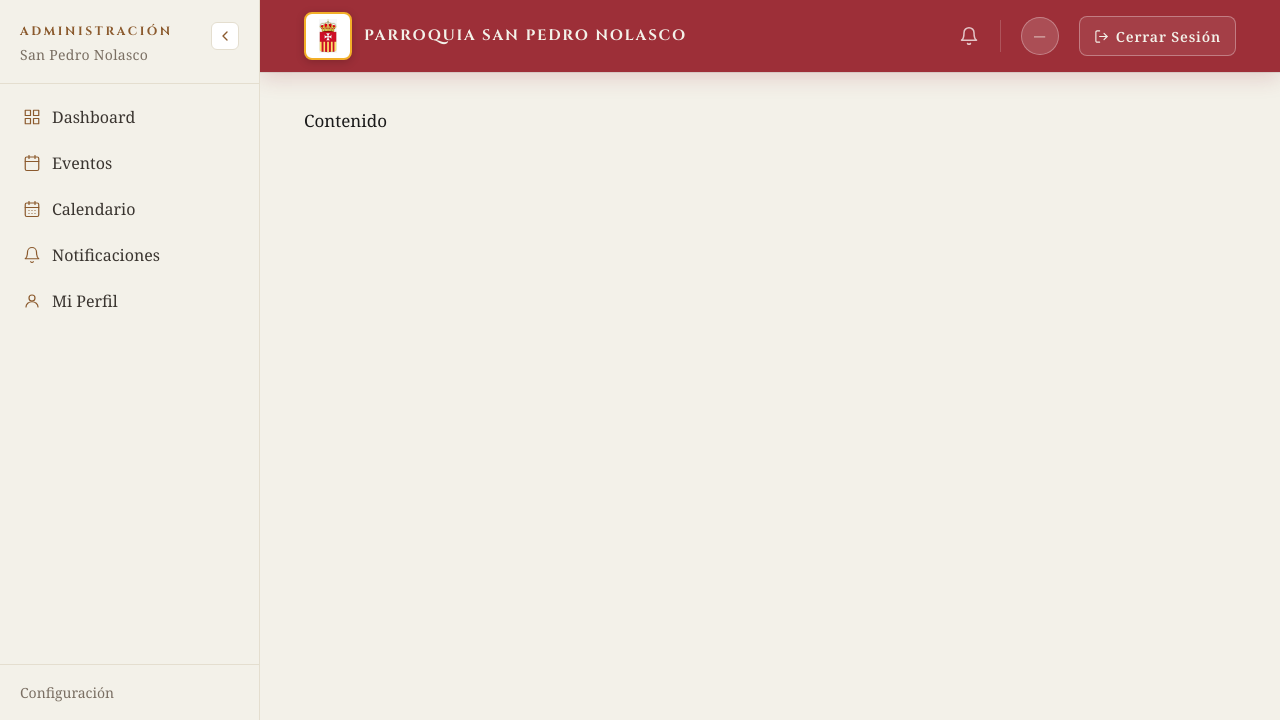
Test: AppShell › vuelve a expandir al hacer click de nuevo
Click the button named "Ocultar menú".
click(225, 36)  # box [211,22,239,50]
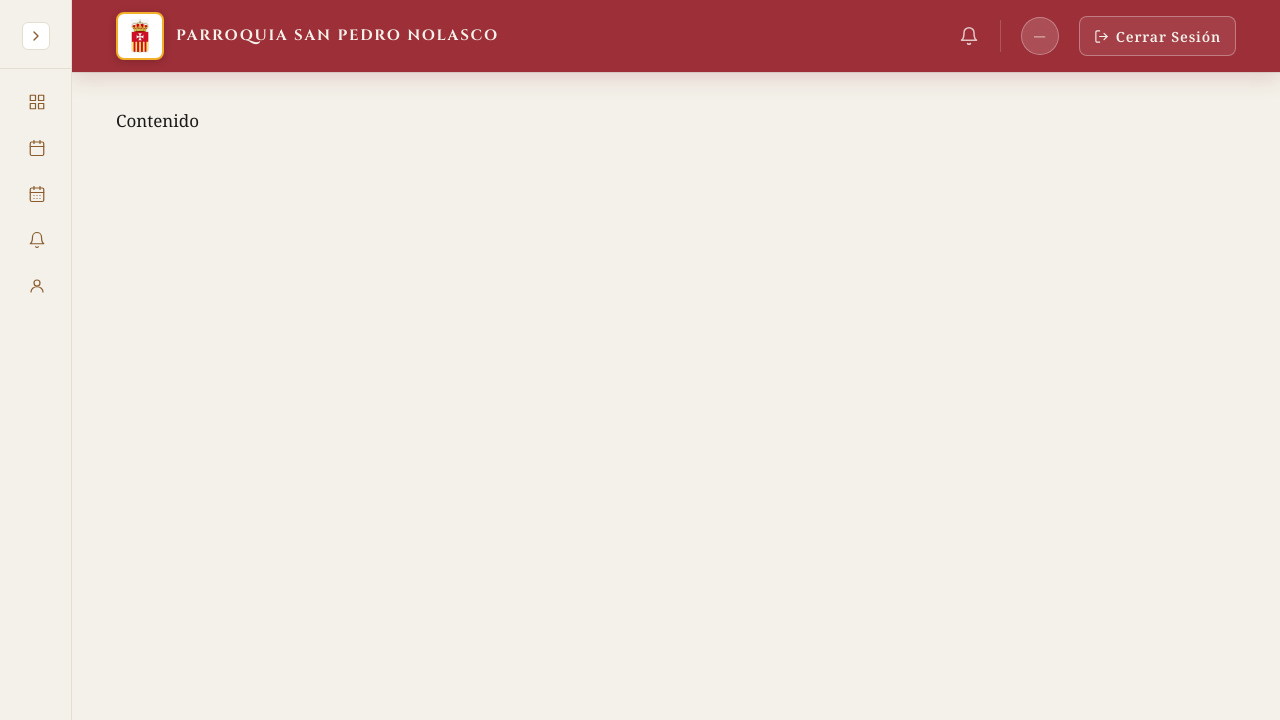
Click the button named "Mostrar menú".
click(36, 36)  # box [22,22,50,50]
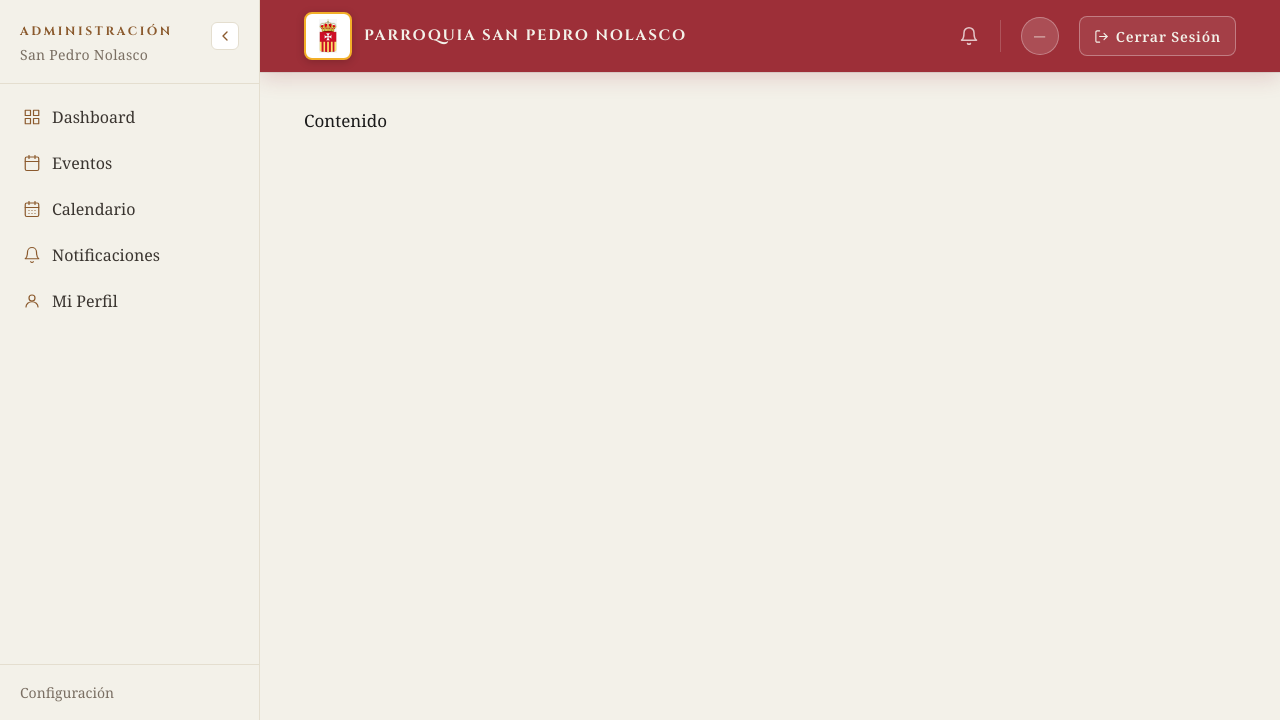
Result: the button named "Ocultar menú" is shown at [211,22,239,50]
